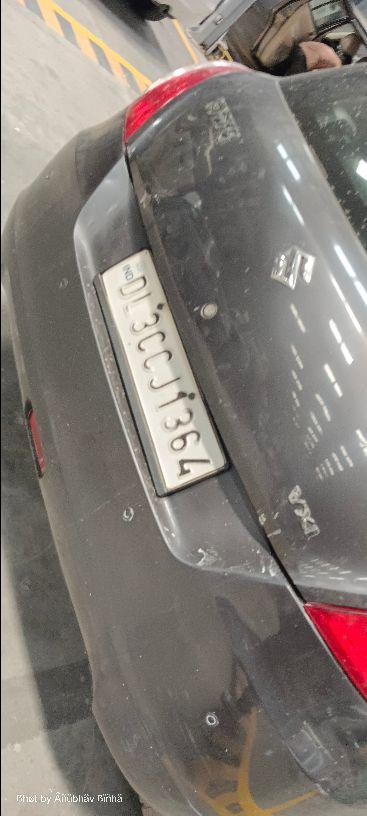license_plate: (3, 52, 365, 812), (93, 246, 231, 497)
